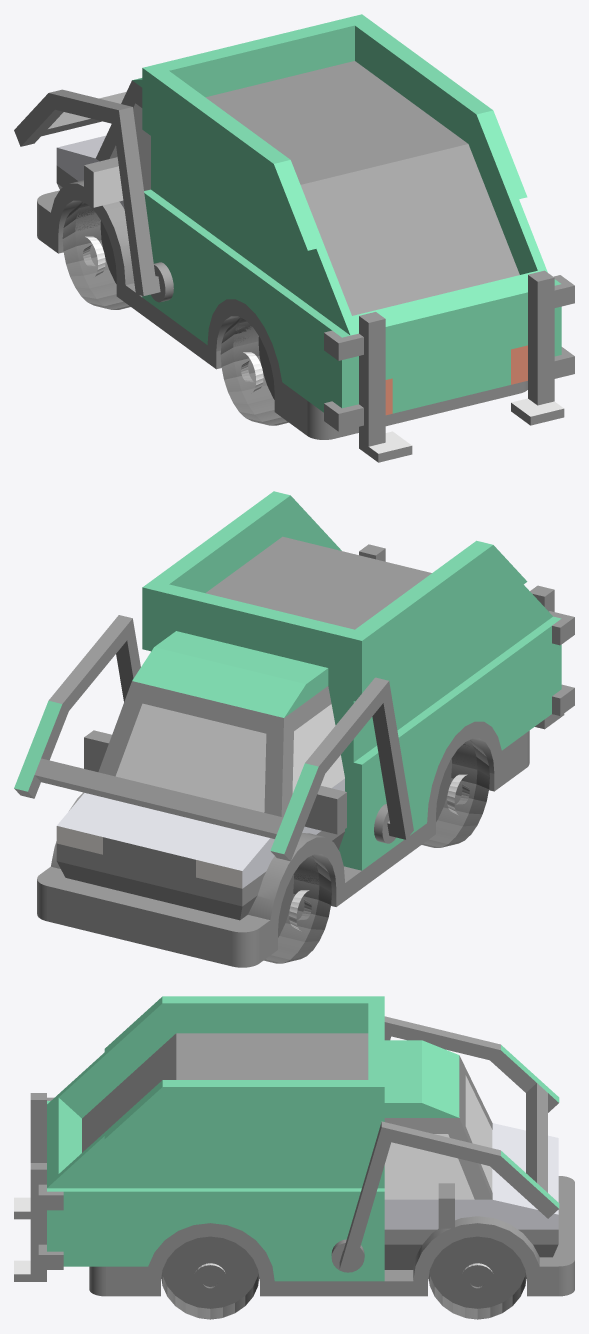
The model's file is garbageTruck.glb.
3 views of the same model, one above another, from view 1: azimuth 30°, elevation 25°; view 2: azimuth 150°, elevation 25°; view 3: azimuth 270°, elevation 25° (orthographic). The views are drawn at different scales.
Parts seen in each view (by area): view 1: body; view 2: body; view 3: body.
Boxes of the visible parts, box(x1,y1,x2,y2) form: body: box(14, 14, 574, 462); body: box(14, 491, 574, 967); body: box(14, 996, 574, 1319).
Bounding box in the file's own units: 1.6 × 1.6 × 3.4.
